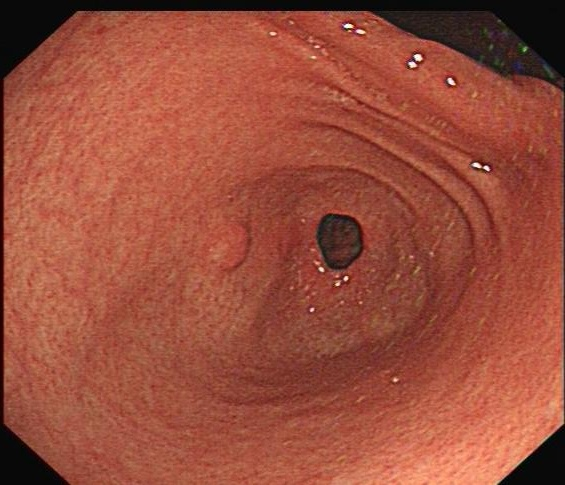Polyp: (200, 217, 255, 277)
